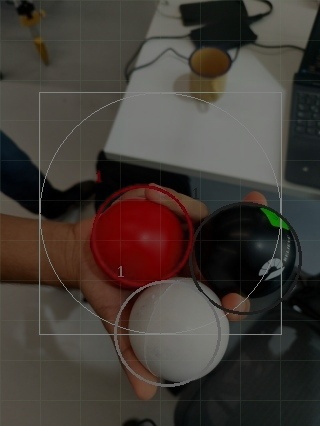Pelota blanca: (111, 278, 230, 392), (124, 36, 193, 94), (188, 44, 233, 78), (239, 0, 275, 19)
Pelota negra: (188, 201, 302, 318), (0, 129, 41, 208), (119, 417, 158, 425)
Pelota roja: (90, 182, 195, 288)
